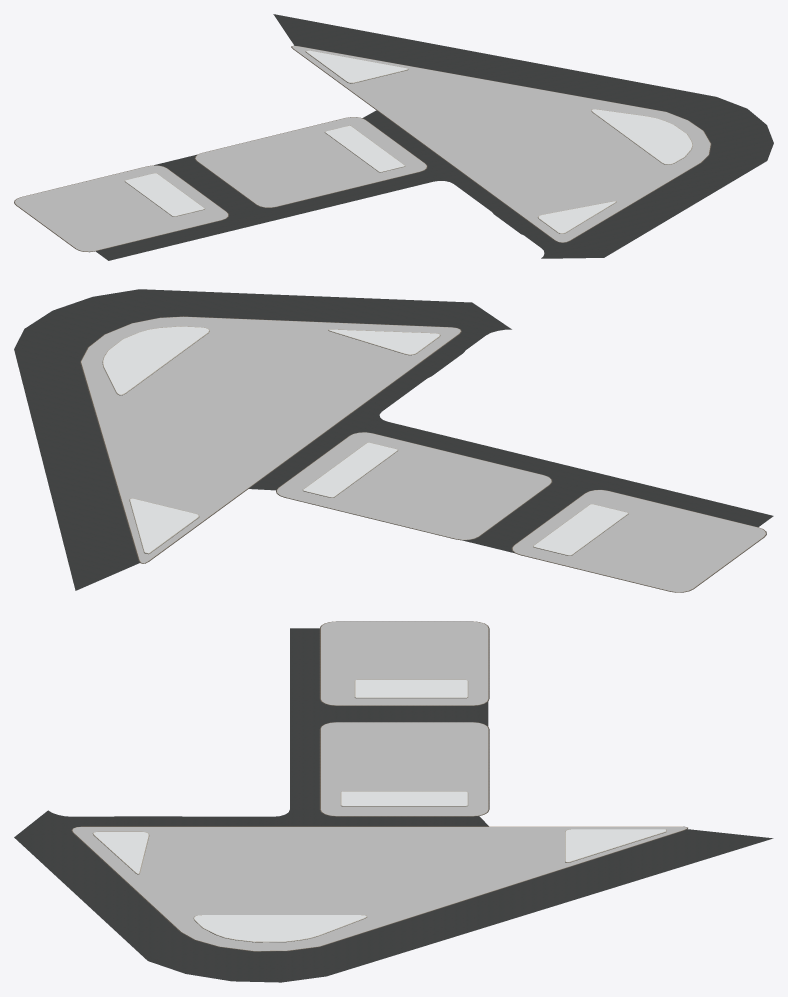
The model's file is Area_13.fbx.
3 renders of one model, top to bottom at view 1: azimuth 30°, elevation 25°; view 2: azimuth 150°, elevation 25°; view 3: azimuth 270°, elevation 25°, orthographic. The views are drawn at different scales.
Parts seen in each view (by area): view 1: Area_13; view 2: Area_13; view 3: Area_13.
Part boxes in pixels (x1,y1,x2,y2): Area_13: (14,14,773,260); Area_13: (14,289,773,592); Area_13: (14,621,773,982).
Bounding box in the file's own units: 25884 × 27.26 × 23022.
